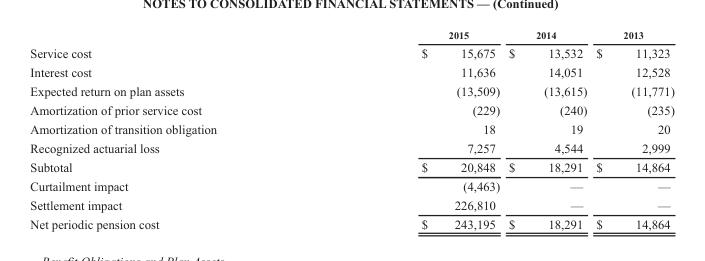table: (29, 29, 673, 230)
table column: (29, 29, 318, 230), (318, 29, 503, 230), (503, 29, 590, 230), (590, 29, 673, 230)
table column header: (29, 29, 673, 42)
table row: (29, 42, 673, 61), (29, 61, 673, 80), (29, 80, 673, 99), (29, 99, 673, 118), (29, 118, 673, 137), (29, 137, 673, 156), (29, 156, 673, 175), (29, 175, 673, 194), (29, 194, 673, 213), (29, 213, 673, 230), (29, 29, 673, 42)
